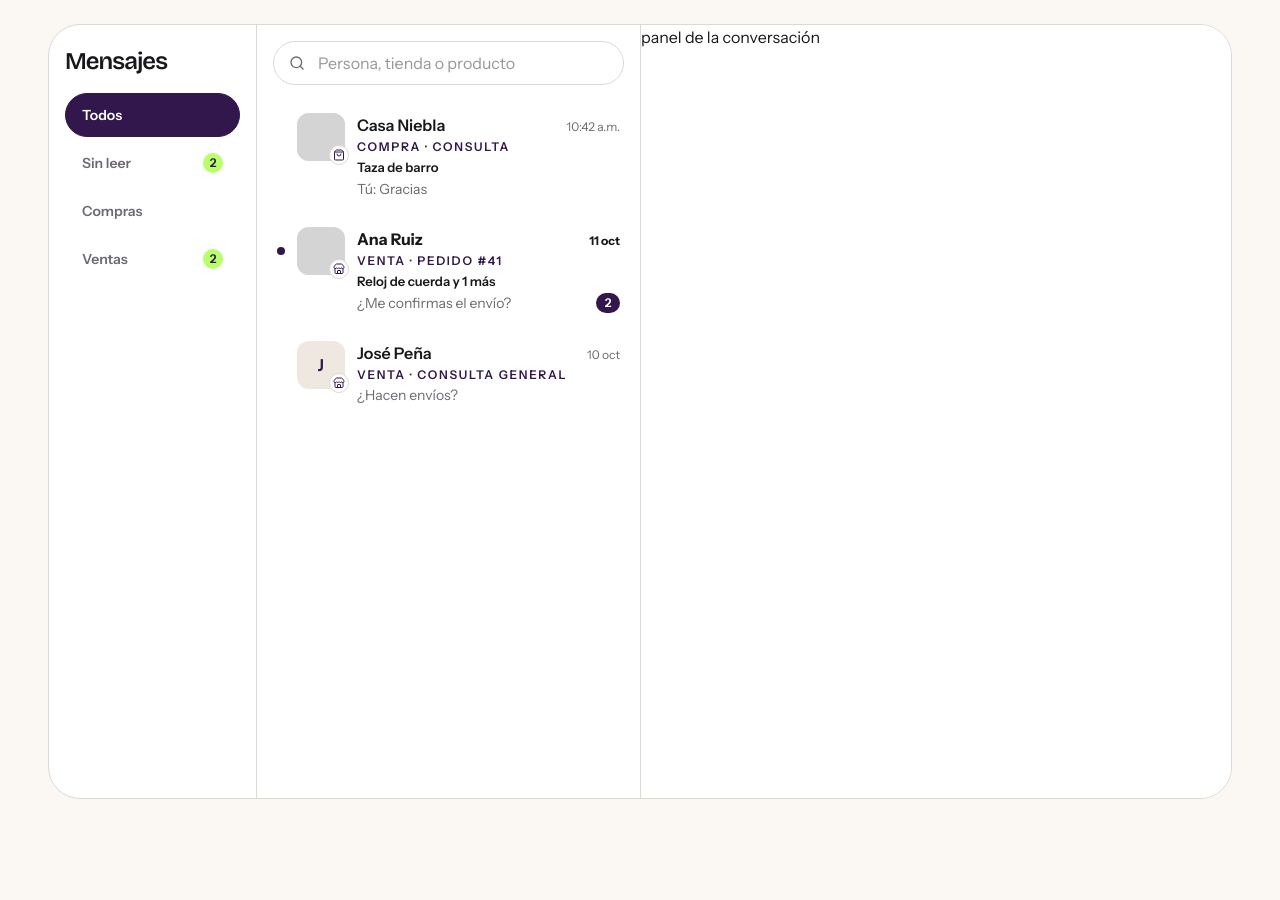
Test: inbox search › says so when nothing matches
Type "bicicleta" into the search field named "Buscar en tus mensajes" at coordinates (448, 63), box [273,41,624,85]
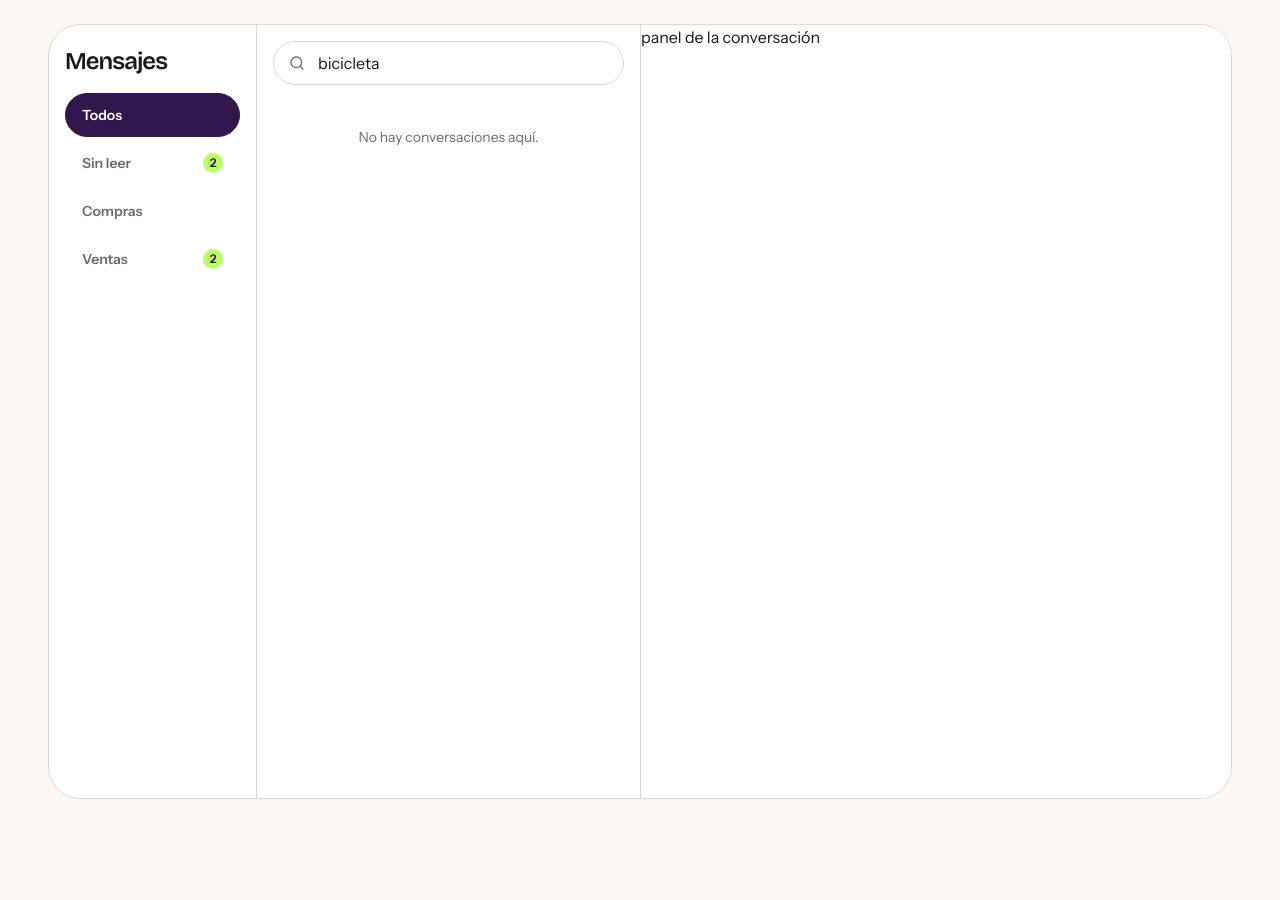
Expected: the text "No hay conversaciones aquí." is shown, [358,128,539,146]
